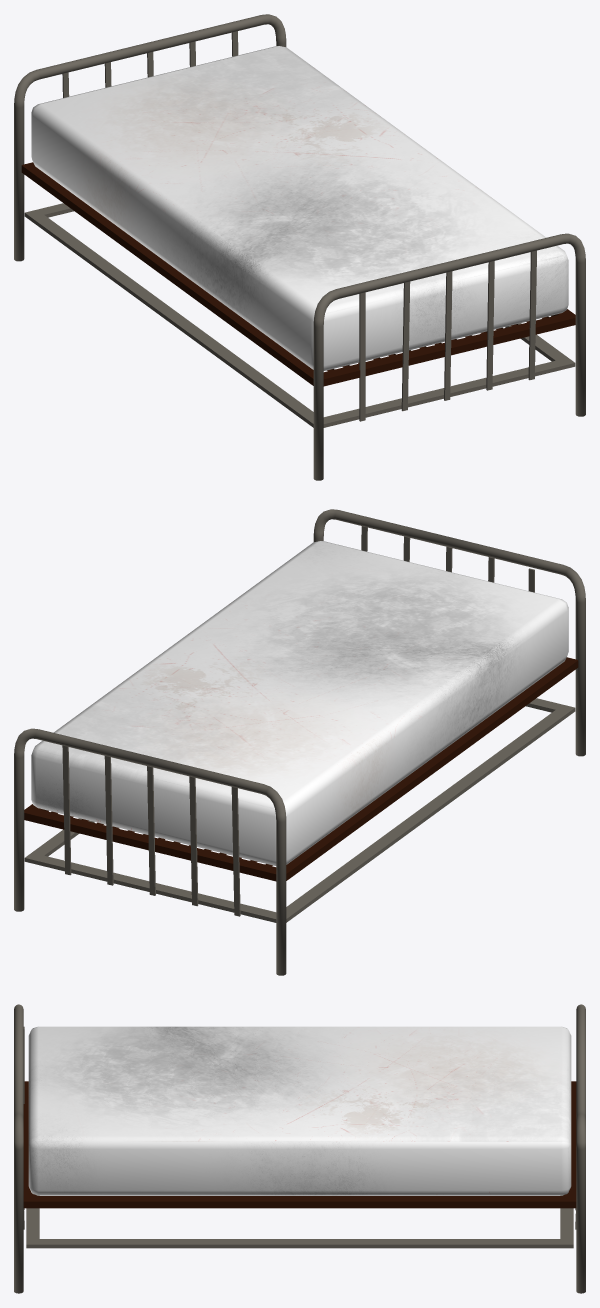
The model's file is Bed.fbx.
The picture shows the model from 3 angles, top to bottom: view 1: azimuth 30°, elevation 25°; view 2: azimuth 150°, elevation 25°; view 3: azimuth 270°, elevation 25°; orthographic projection. The views are drawn at different scales.
Visible parts, largest first — view 1: Mattress, Bedframe; view 2: Mattress, Bedframe; view 3: Mattress, Bedframe.
Boxes of the visible parts, x1,y1,x2,y2 form: Mattress: [31, 46, 568, 370]; Bedframe: [14, 14, 585, 480]; Mattress: [31, 541, 568, 865]; Bedframe: [14, 509, 585, 975]; Mattress: [28, 1026, 571, 1195]; Bedframe: [14, 1004, 585, 1293].
Bounding box in the file's own units: 99.23 × 64.6 × 193.
3 materials, 1 textured.
